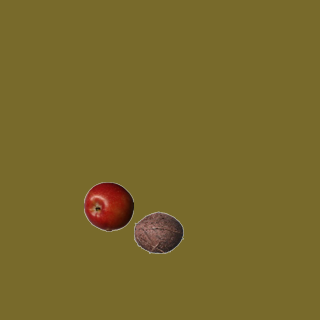Apple Braeburn: (83, 181, 133, 231)
Cocos: (133, 207, 183, 257)
